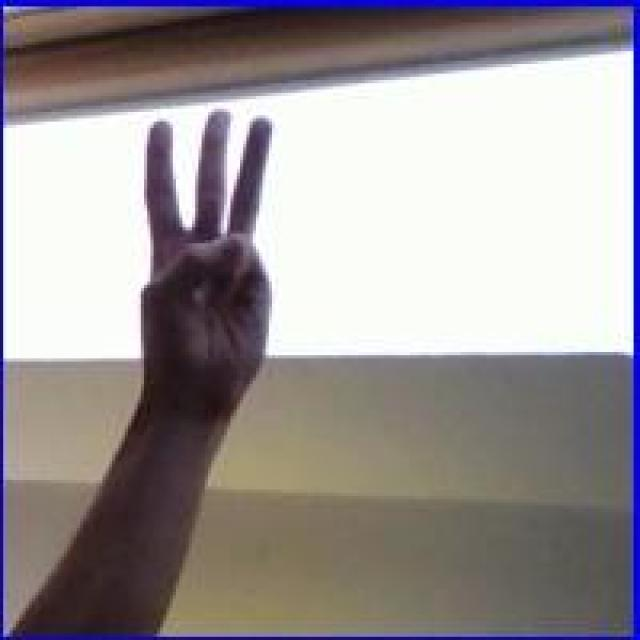W: (131, 105, 288, 412)
